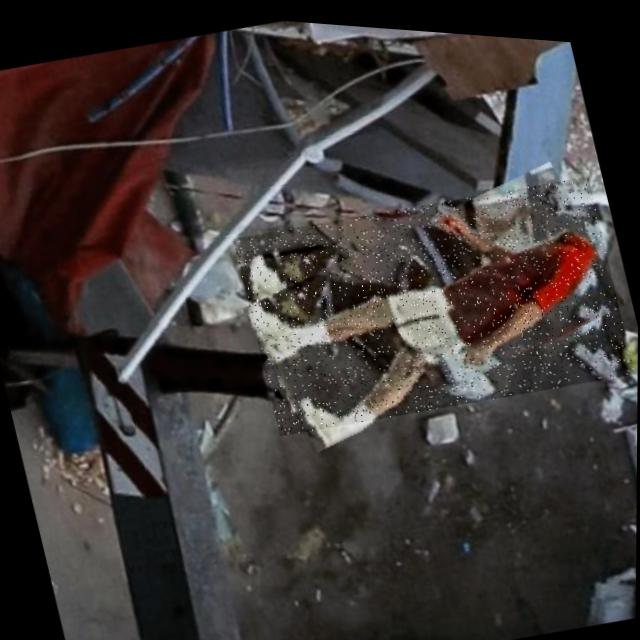Person in Rubble: (231, 147, 635, 452)
